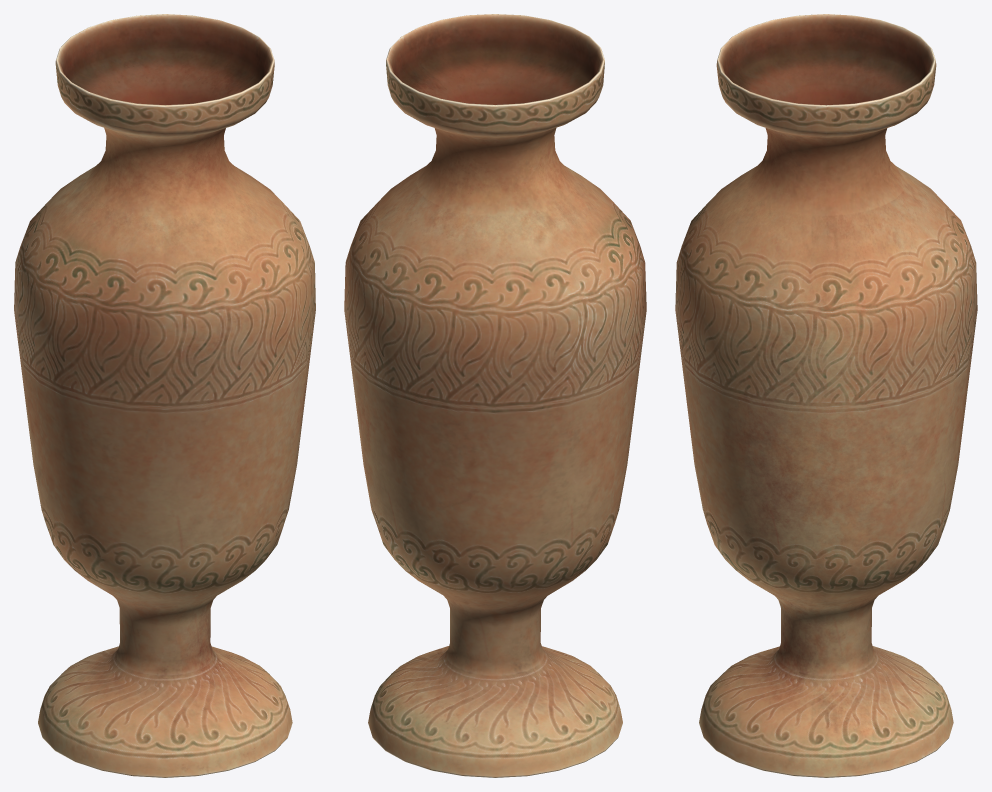
File: BrassVase.fbx
3 renders of one model, left to right at view 1: azimuth 30°, elevation 25°; view 2: azimuth 150°, elevation 25°; view 3: azimuth 270°, elevation 25°, orthographic.
Parts seen in each view (by area): view 1: brass_vase_03; view 2: brass_vase_03; view 3: brass_vase_03.
Part boxes in pixels (box(x1,y1,x2,y2)): brass_vase_03: box(14, 14, 315, 777); brass_vase_03: box(344, 14, 646, 777); brass_vase_03: box(675, 14, 977, 777).
Size of the model in its own units: 8.25 by 20.04 by 8.25.
1 material, 1 textured.
